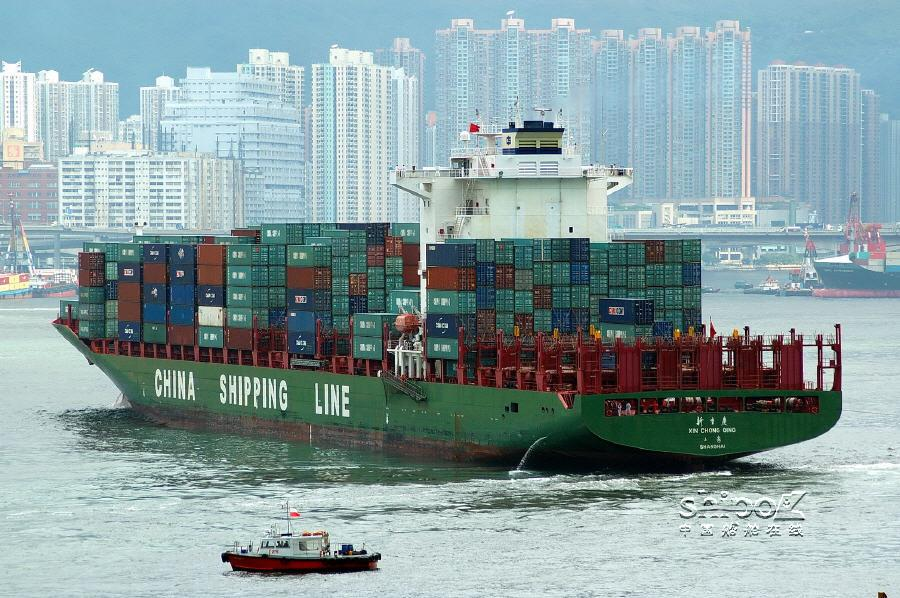Cargoship: (46, 103, 847, 465)
otherboat: (217, 506, 381, 580)
